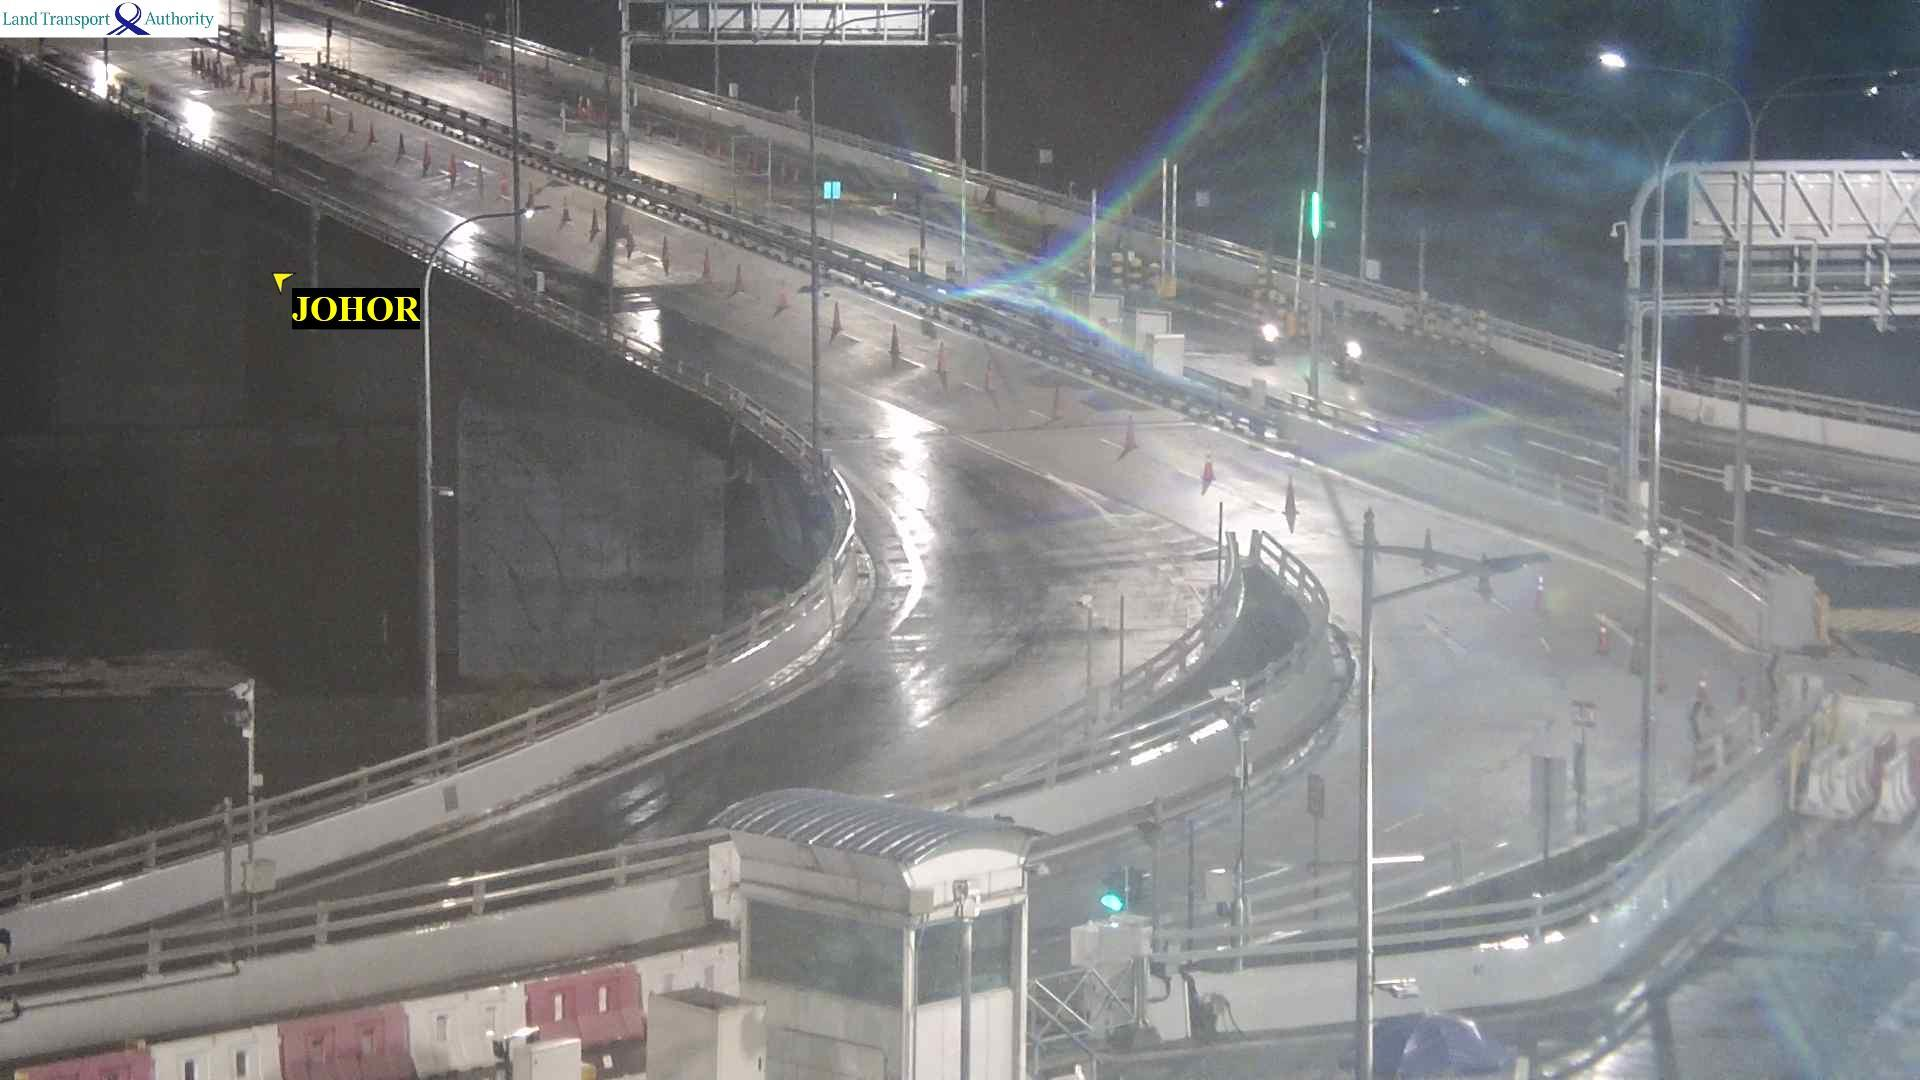vehicle-secondlink-johor: (822, 182, 845, 204)
